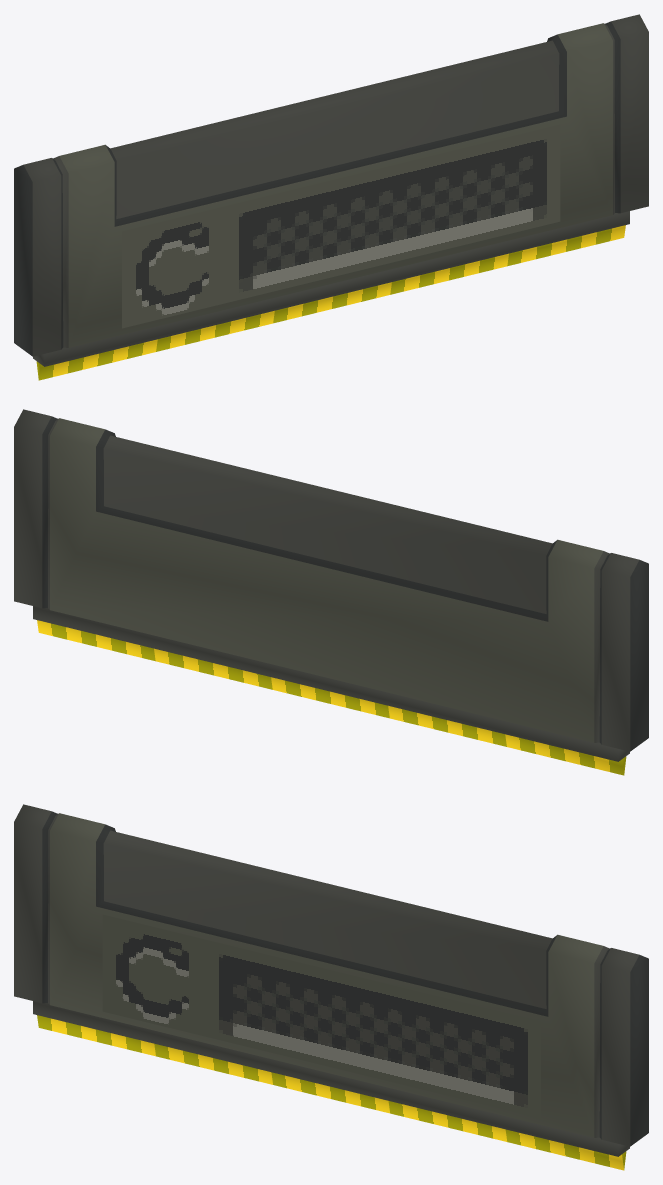
Rendered from ram.glb.
3 renders of one model, top to bottom at view 1: azimuth 30°, elevation 25°; view 2: azimuth 150°, elevation 25°; view 3: azimuth 330°, elevation 25°, orthographic.
Visible parts, largest first — view 1: RAM.002; view 2: RAM.002; view 3: RAM.002.
Part boxes in pixels (bbox=[...]): RAM.002: bbox=[14, 14, 648, 380]; RAM.002: bbox=[14, 409, 648, 775]; RAM.002: bbox=[14, 804, 648, 1170].
Bounding box in the file's own units: 0.465 × 0.1584 × 0.025.
Materials: 1 (1 with a texture image).
